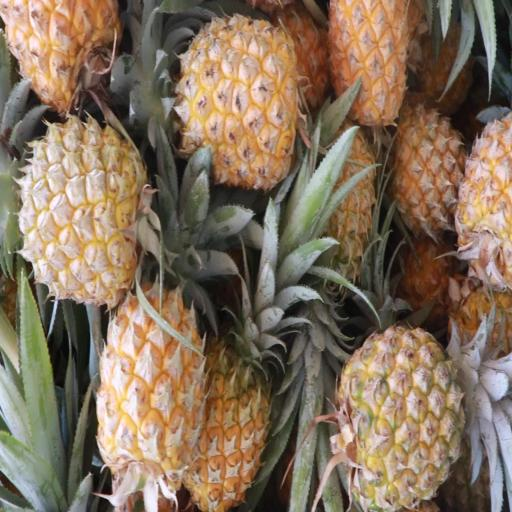------------------------------: (327, 319, 512, 512)
Pineapple - v8 v1: (96, 270, 206, 512), (182, 245, 280, 512), (13, 127, 153, 304), (157, 18, 300, 186), (279, 119, 373, 315), (449, 114, 512, 297), (392, 102, 466, 243), (327, 1, 412, 121)
